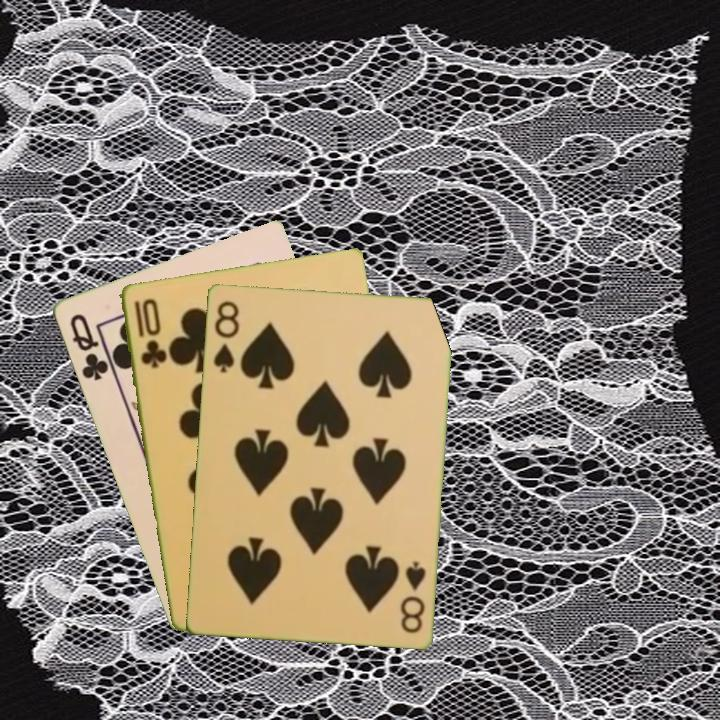10c: (130, 294, 168, 371)
8s: (209, 297, 242, 375), (397, 557, 428, 636)
Qc: (65, 310, 111, 384)
